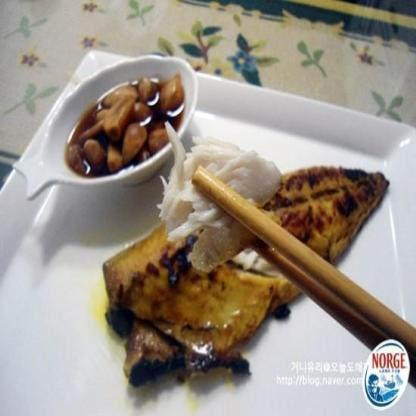Peixe: (102, 150, 386, 388)
